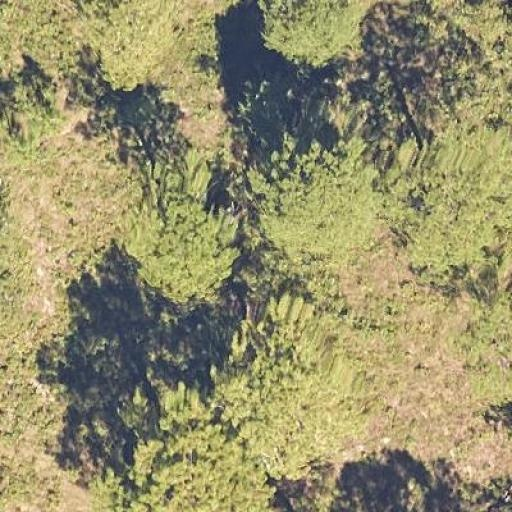tree-top: (205, 302, 379, 470), (116, 385, 283, 511), (112, 148, 244, 297), (388, 120, 511, 274), (247, 134, 385, 270), (88, 2, 223, 90), (251, 0, 379, 65), (5, 80, 64, 168)
